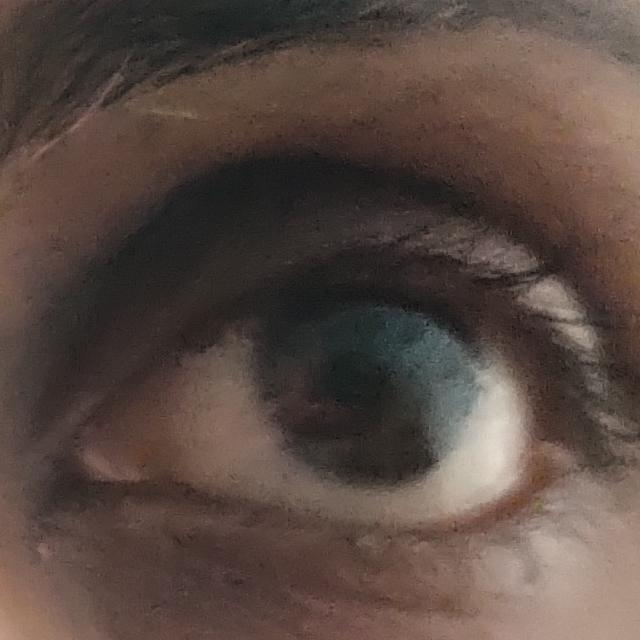eye: (142, 284, 548, 534)
iris: (248, 280, 482, 470)
